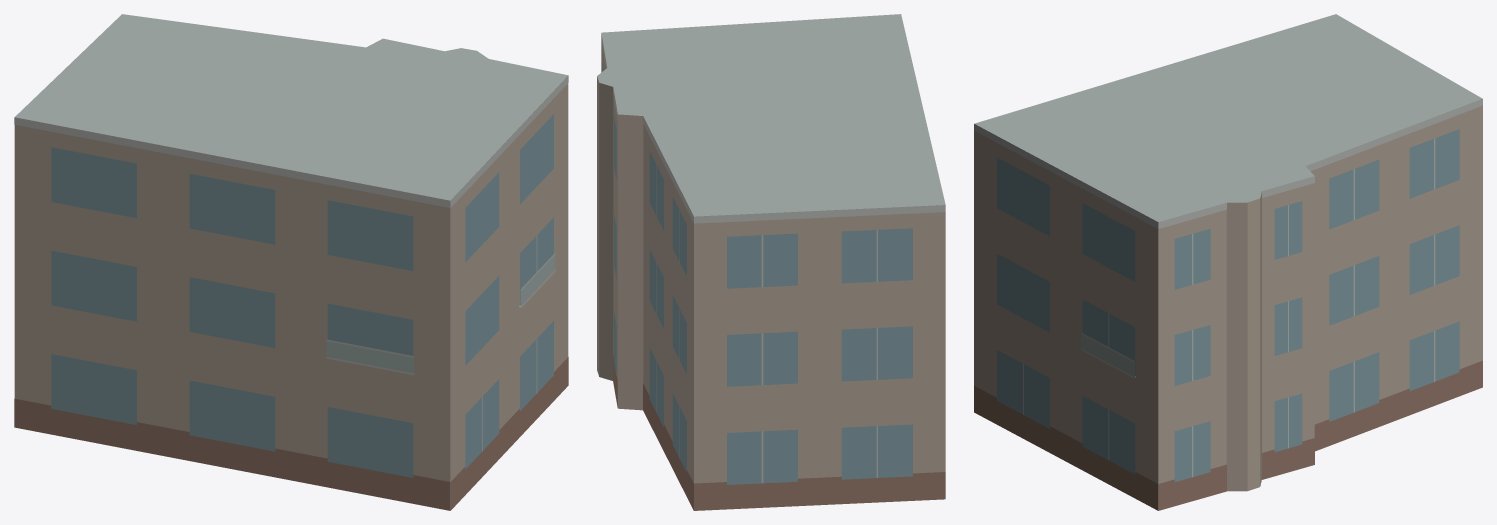
The model's file is survey-upis-32526242.glb.
3 views of the same model, side by side, from view 1: azimuth 30°, elevation 25°; view 2: azimuth 150°, elevation 25°; view 3: azimuth 270°, elevation 25° (orthographic). The views are drawn at different scales.
Visible parts, largest first — view 1: survey-upis-32526242.tmp; view 2: survey-upis-32526242.tmp; view 3: survey-upis-32526242.tmp.
Part boxes in pixels (box(x1,y1,x2,y2)): survey-upis-32526242.tmp: box(14, 14, 568, 510); survey-upis-32526242.tmp: box(597, 14, 945, 510); survey-upis-32526242.tmp: box(974, 14, 1482, 510).
Bounding box in the file's own units: 15.78 × 10.2 × 16.3.
